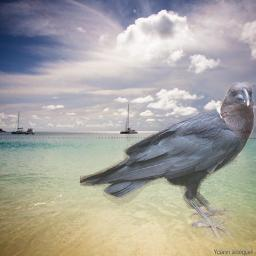Crow: (80, 82, 255, 238)
